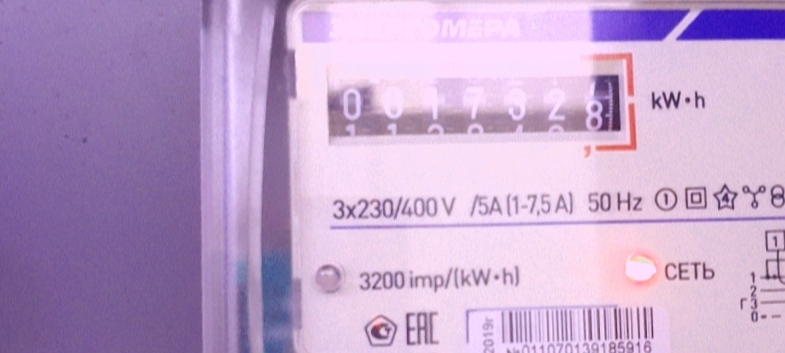0: (339, 83, 362, 120), (381, 84, 402, 118)
1: (424, 82, 440, 119)
2: (543, 85, 565, 121)
3: (503, 85, 526, 121)
7: (460, 82, 485, 120)
8: (581, 95, 602, 131)
screen: (314, 51, 639, 160)
